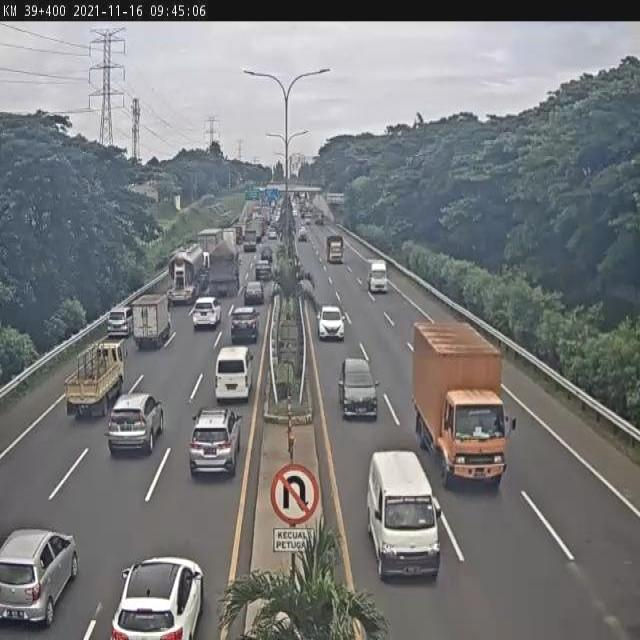Car: (0, 527, 79, 629), (113, 555, 205, 640), (105, 393, 165, 455), (189, 408, 243, 476), (338, 359, 381, 420), (229, 306, 261, 344), (317, 306, 346, 341), (106, 306, 135, 338), (192, 297, 222, 327), (243, 282, 265, 304), (252, 260, 272, 282), (261, 246, 275, 260), (268, 228, 278, 240)
Truck: (412, 321, 518, 488), (64, 340, 129, 420), (166, 242, 211, 307), (131, 294, 171, 349), (207, 238, 242, 298), (367, 258, 389, 294), (196, 227, 223, 249), (326, 234, 344, 263), (242, 228, 257, 249), (222, 227, 237, 247)
Van: (368, 448, 442, 583), (215, 346, 253, 403)
